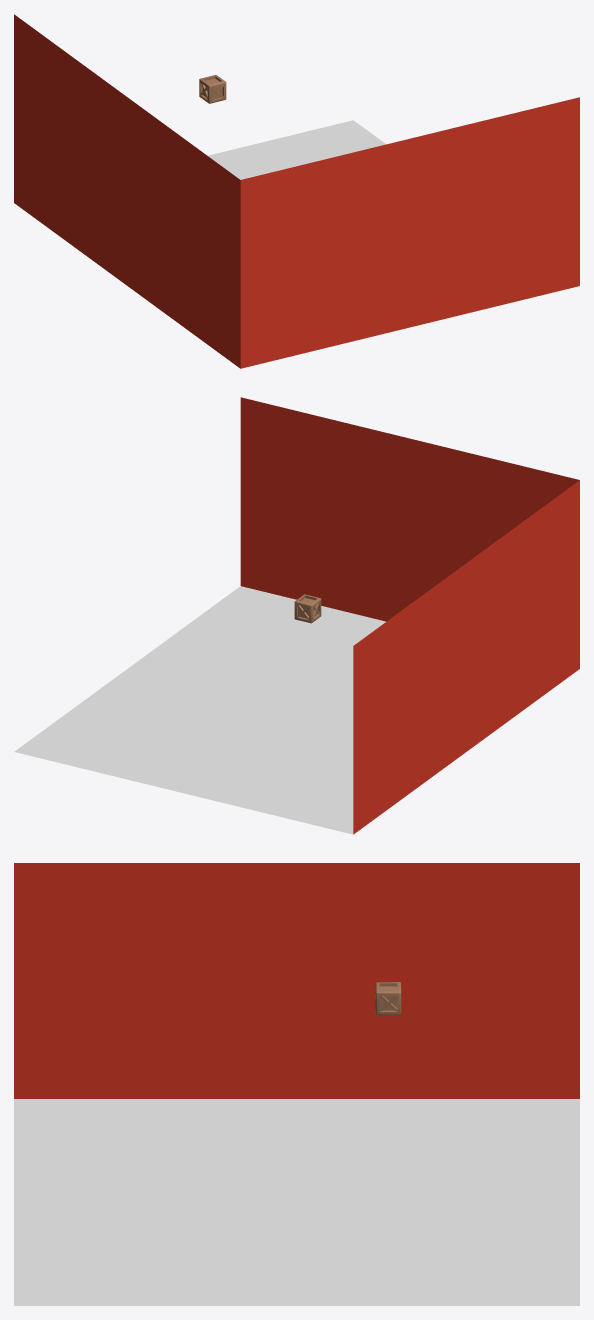
The picture shows the model from 3 angles, top to bottom: view 1: azimuth 30°, elevation 25°; view 2: azimuth 150°, elevation 25°; view 3: azimuth 270°, elevation 25°; orthographic projection. The views are drawn at different scales.
Parts seen in each view (by area): view 1: walls, floor, box; view 2: walls, floor, box; view 3: walls, floor, box.
Part boxes in pixels (x1,y1,x2,y2): walls: (14,14,579,368); floor: (208,120,385,179); box: (199,75,226,103); walls: (240,397,579,834); floor: (14,586,385,834); box: (294,594,321,623); walls: (14,863,579,1098); floor: (14,1099,579,1305); box: (375,982,401,1014).
Bounding box in the file's own units: 38.62 × 44.66 × 20.53.
